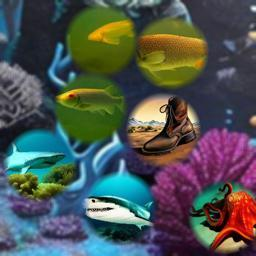not an animal: (141, 97, 198, 155)
